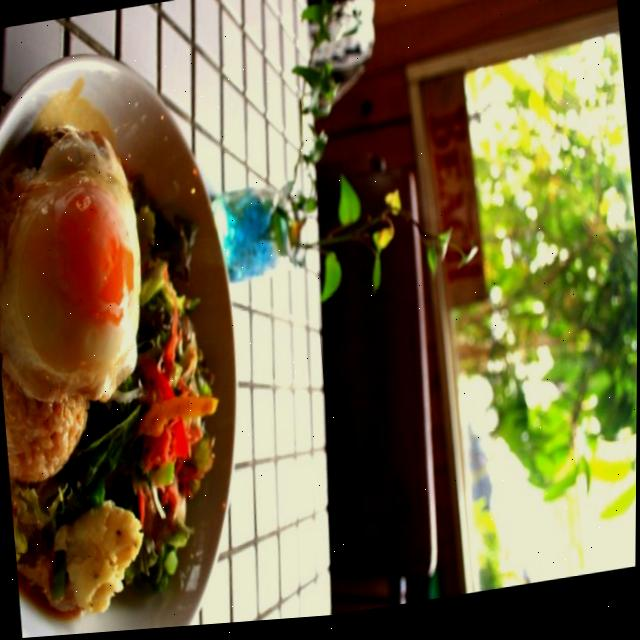鸡蛋料理: (99, 117, 165, 360)
